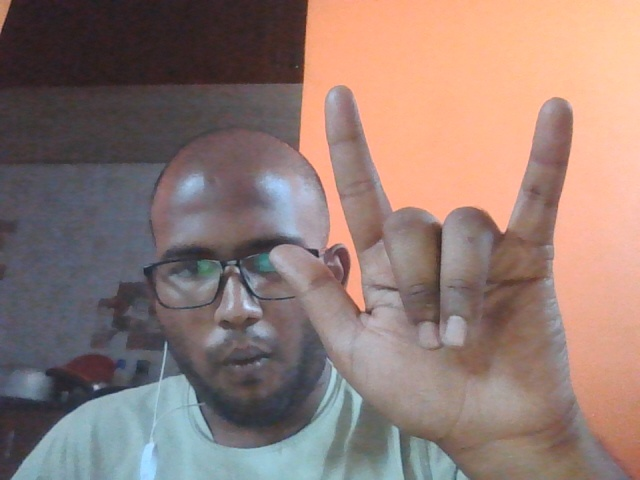iloveyou: (266, 71, 612, 480)
